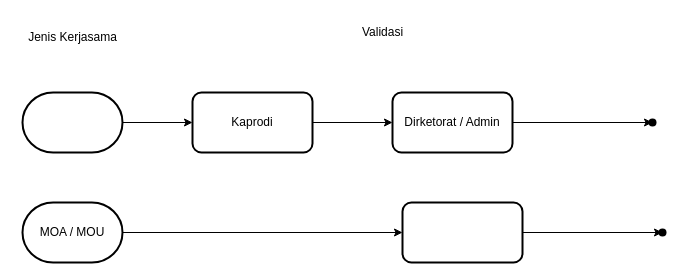
Image size: 690x280. Some labels were removed from this diagram. Here are the shapes that lost their labels. From the top down, the centre of each, then its label:
At point (72, 122): "IA".
At point (462, 232): "DIrekotrat / Admin".
